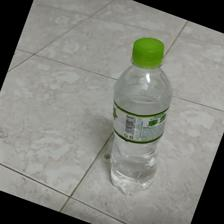Dasani: (107, 36, 172, 196)
